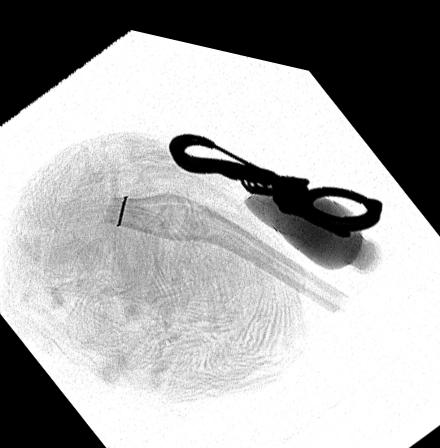HandCuffs: (168, 124, 383, 220)
